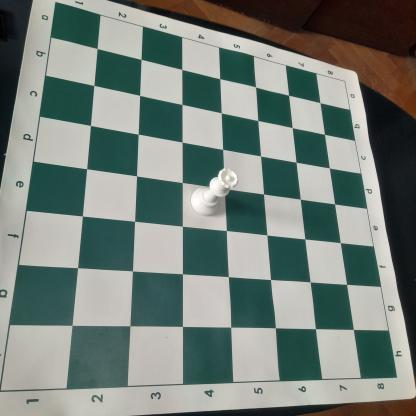white-queen: (190, 167, 239, 217)
